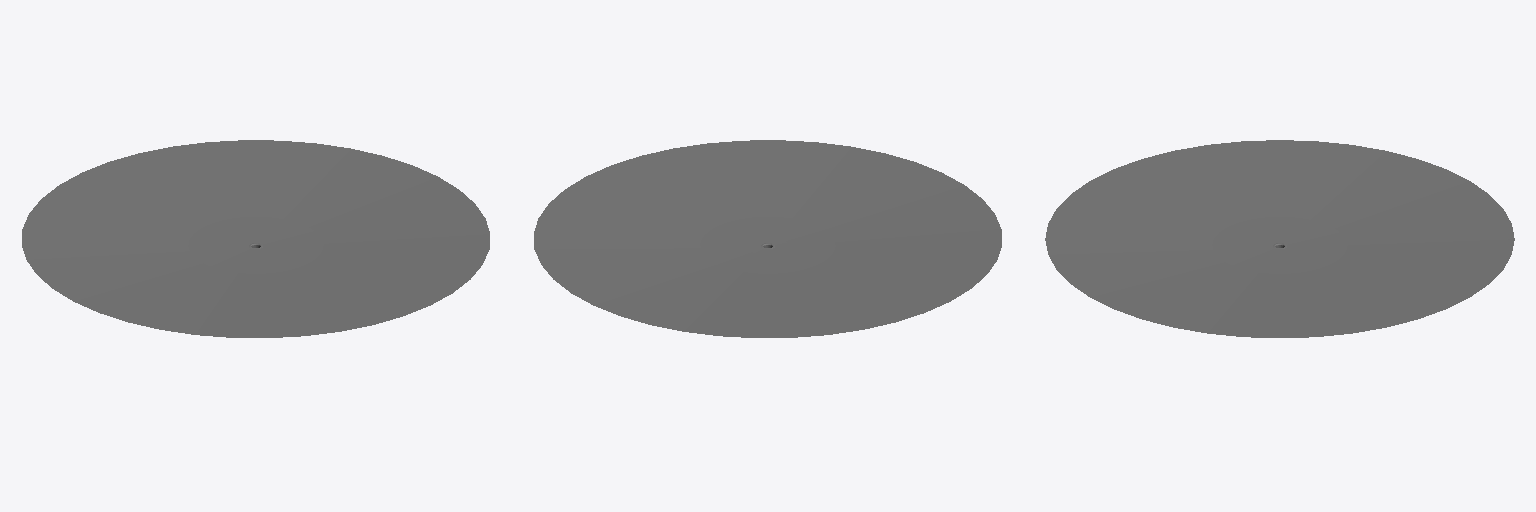
The model's file is Hole.obj.
3 views of the same model, side by side, from view 1: azimuth 30°, elevation 25°; view 2: azimuth 150°, elevation 25°; view 3: azimuth 270°, elevation 25° (orthographic).
Parts seen in each view (by area): view 1: Hole:Hole; view 2: Hole:Hole; view 3: Hole:Hole.
Part boxes in pixels (left/top/right/bottom): Hole:Hole: left=22, top=140, right=489, bottom=337; Hole:Hole: left=534, top=140, right=1001, bottom=337; Hole:Hole: left=1045, top=140, right=1514, bottom=337.
Bounding box in the file's own units: 91.21 × 7.18 × 91.21.